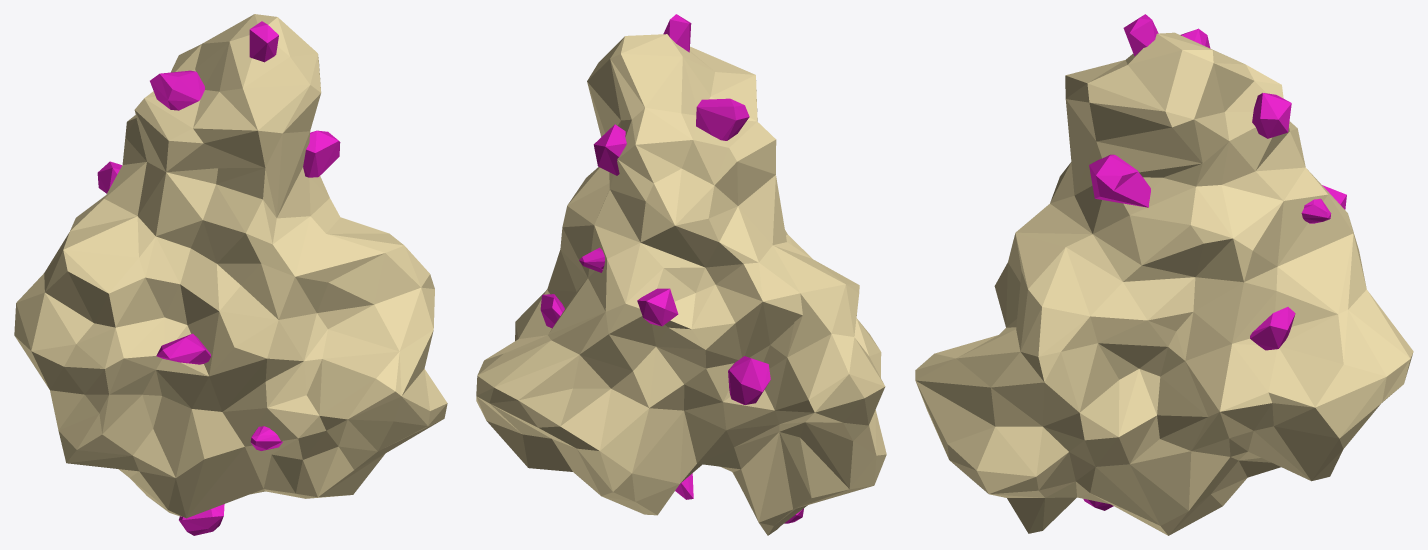
Rendered from CrystalOre (37).fbx.
3 views of the same model, side by side, from view 1: azimuth 30°, elevation 25°; view 2: azimuth 150°, elevation 25°; view 3: azimuth 270°, elevation 25° (orthographic). The views are drawn at different scales.
Visible parts, largest first — view 1: Asteroid257; view 2: Asteroid257; view 3: Asteroid257.
Boxes of the visible parts, bbox=[...] form: Asteroid257: bbox=[14, 14, 447, 535]; Asteroid257: bbox=[476, 14, 886, 535]; Asteroid257: bbox=[915, 14, 1413, 535].
Bounding box in the file's own units: 334 × 442 × 376.
